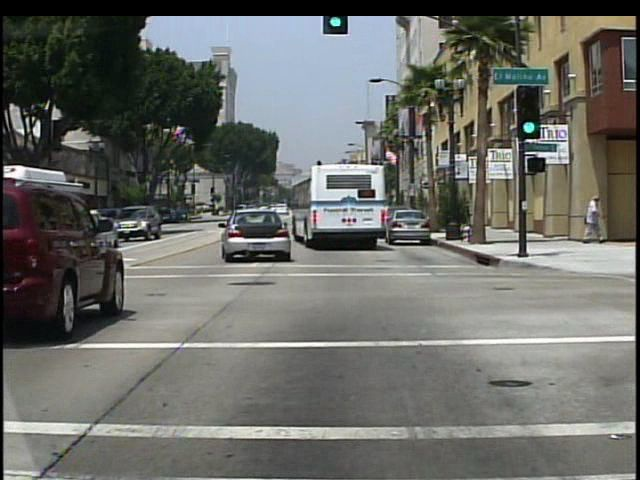person: (582, 193, 605, 245), (462, 193, 473, 232)
